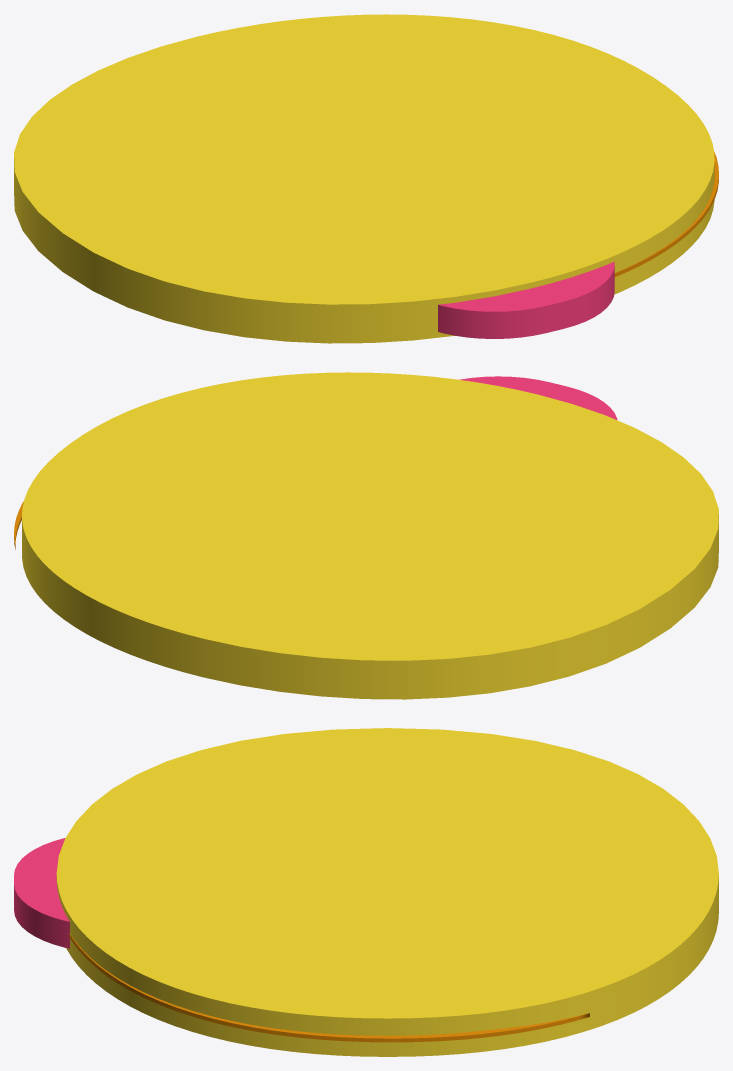
File: emoji_u1f92a.glb
The picture shows the model from 3 angles, top to bottom: view 1: azimuth 30°, elevation 25°; view 2: azimuth 150°, elevation 25°; view 3: azimuth 270°, elevation 25°; orthographic projection.
Visible parts, largest first — view 1: emoji_u1f92a; view 2: emoji_u1f92a; view 3: emoji_u1f92a.
Boxes of the visible parts, x1=… form: emoji_u1f92a: x1=14, y1=14, x2=718, y2=343; emoji_u1f92a: x1=14, y1=372, x2=718, y2=699; emoji_u1f92a: x1=14, y1=728, x2=718, y2=1056.
Size of the model in its own units: 0.0328 by 0.002 by 0.0333.
